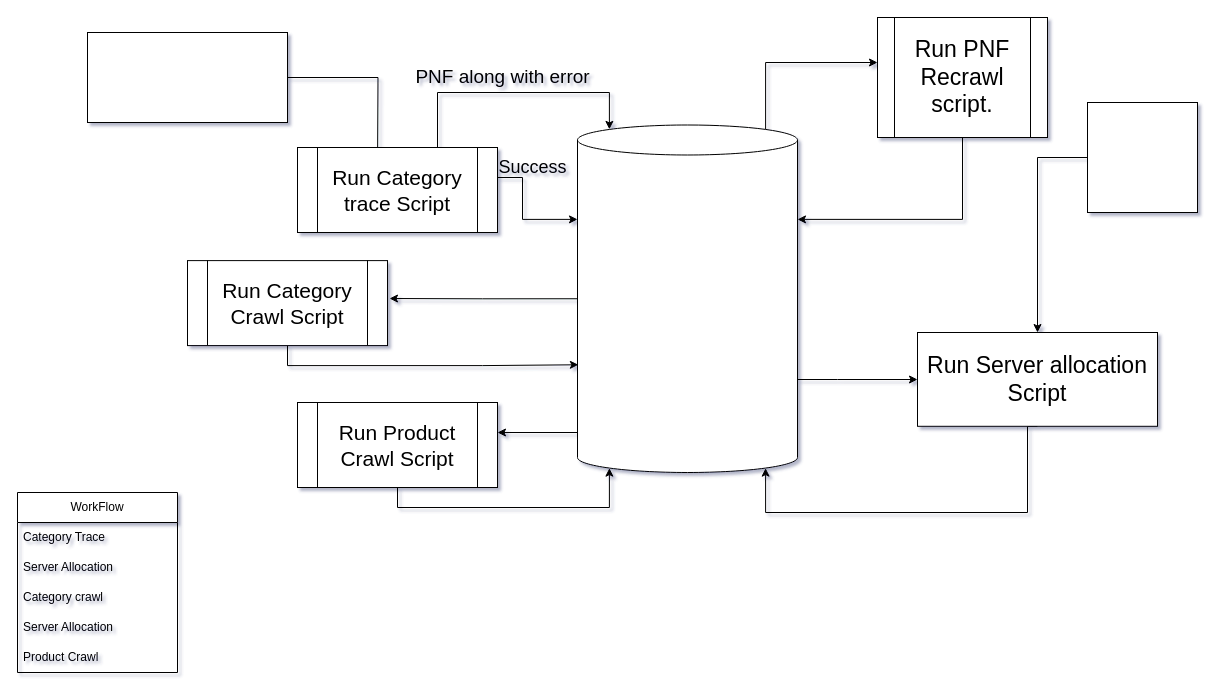
Image size: 1221x696. Some labels were removed from this diagram. The centre of each missing label's shape, as x and y in pixels:
"Create one time input file containing category links from Amazon" goes at (187,77).
"CSV containing server information" goes at (1142,157).
"MongoDB Database" goes at (687,298).
